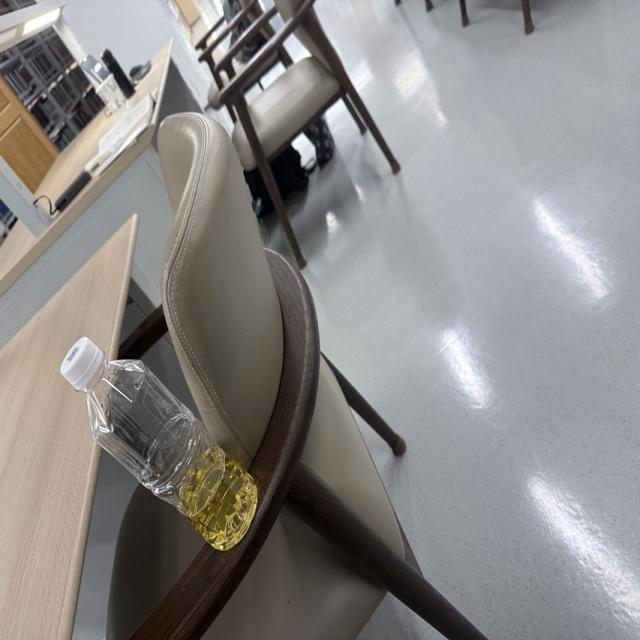low: (60, 336, 256, 549)
